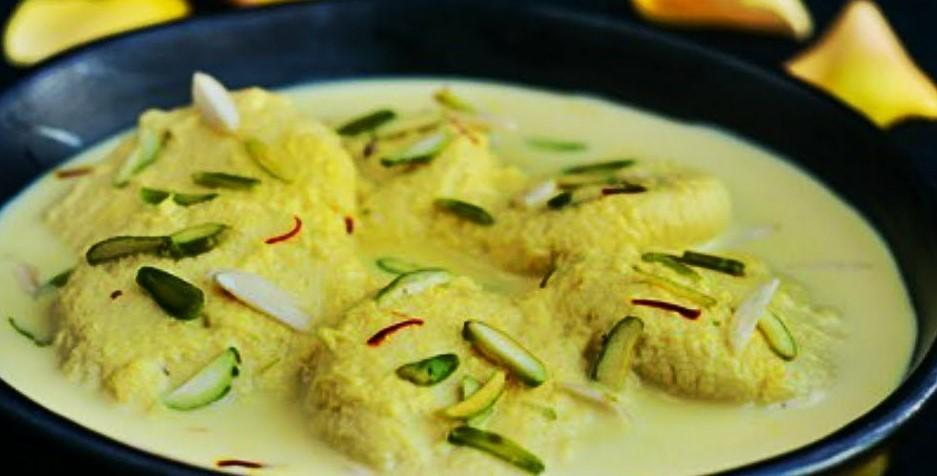RasMalai: (0, 68, 937, 476)
